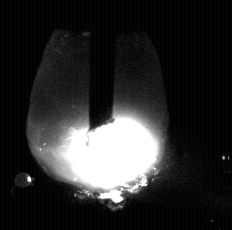arame: (90, 0, 114, 132)
poca: (26, 0, 167, 230)
